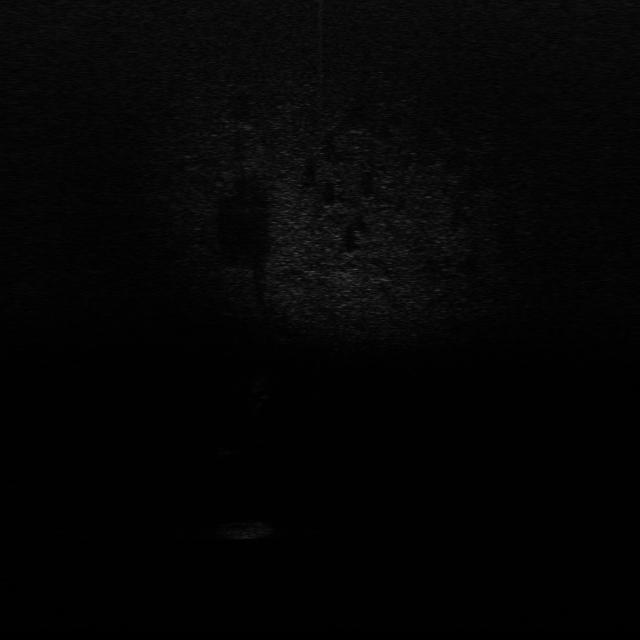ball: (217, 439, 243, 457)
circle cage: (216, 518, 278, 540)
human body: (248, 368, 274, 409)
